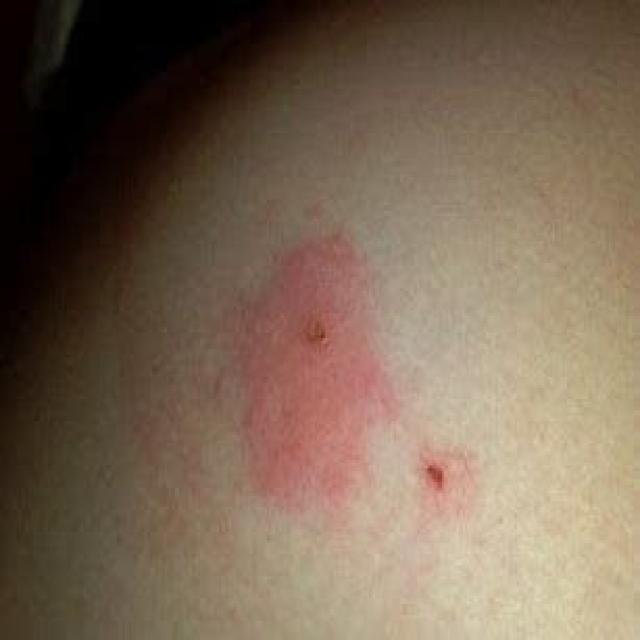kene: (220, 214, 409, 522)
